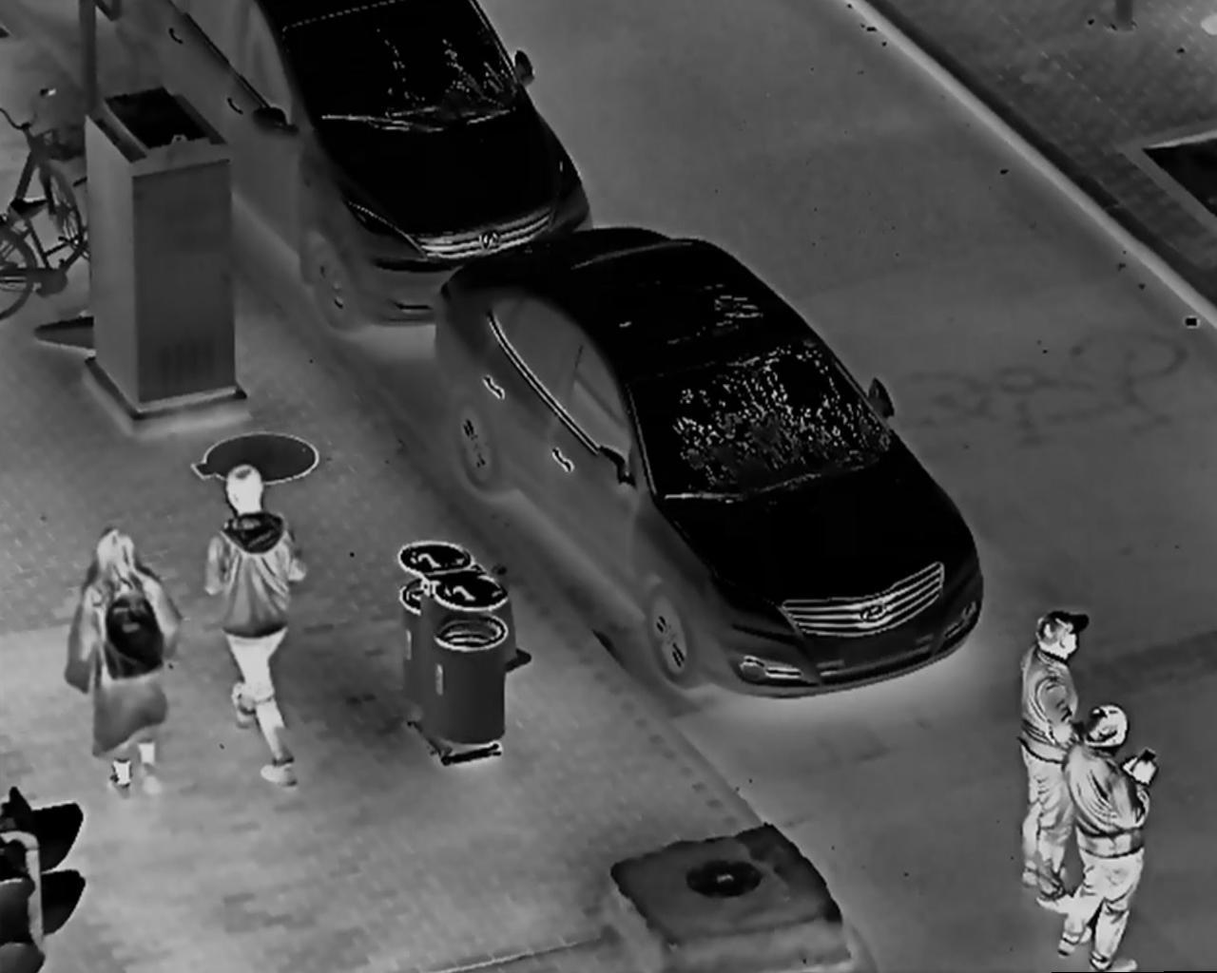person: (206, 466, 319, 788), (67, 525, 176, 802), (1053, 705, 1155, 973), (1010, 610, 1084, 897)
